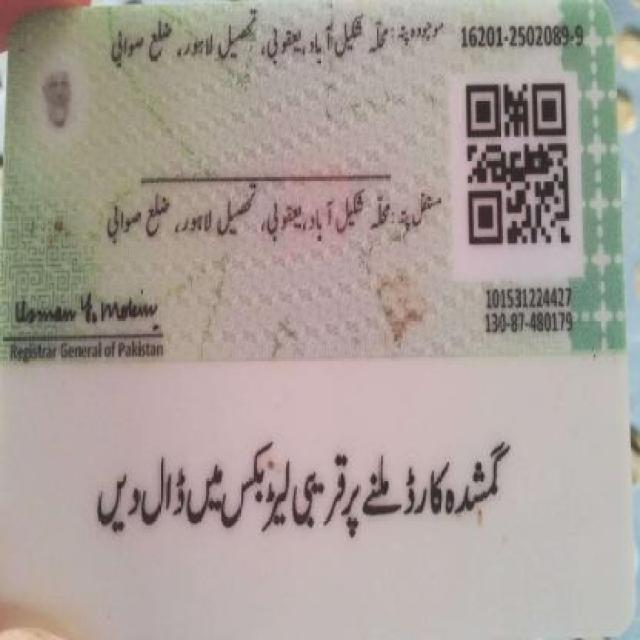Back: (6, 2, 629, 626)
